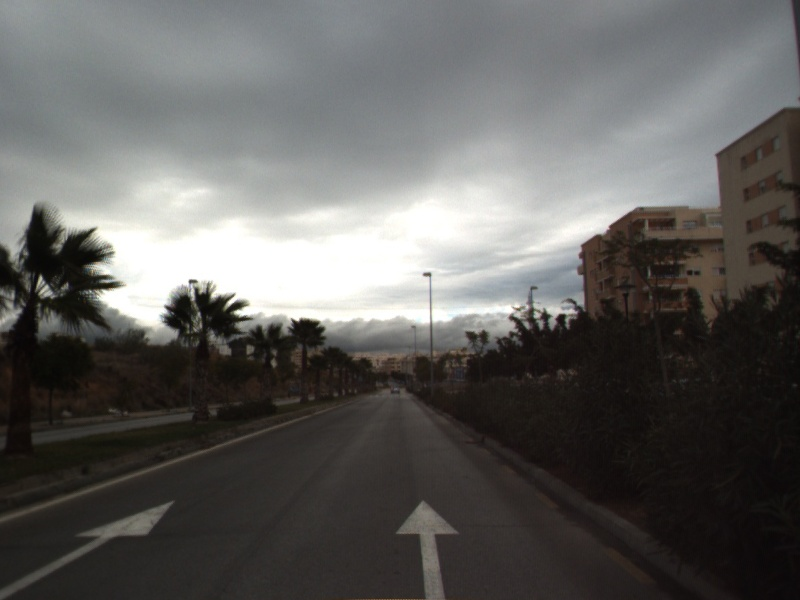STRAIGHT: (1, 498, 177, 600), (393, 497, 462, 600)
